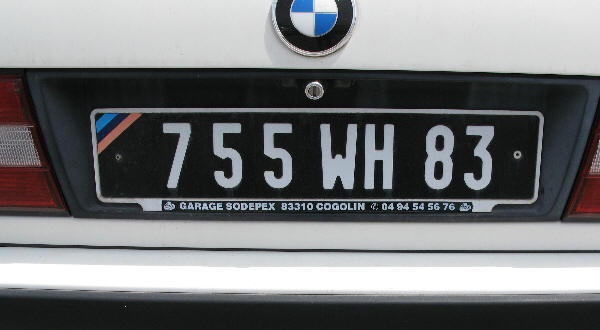license_plate: (91, 108, 545, 205)
